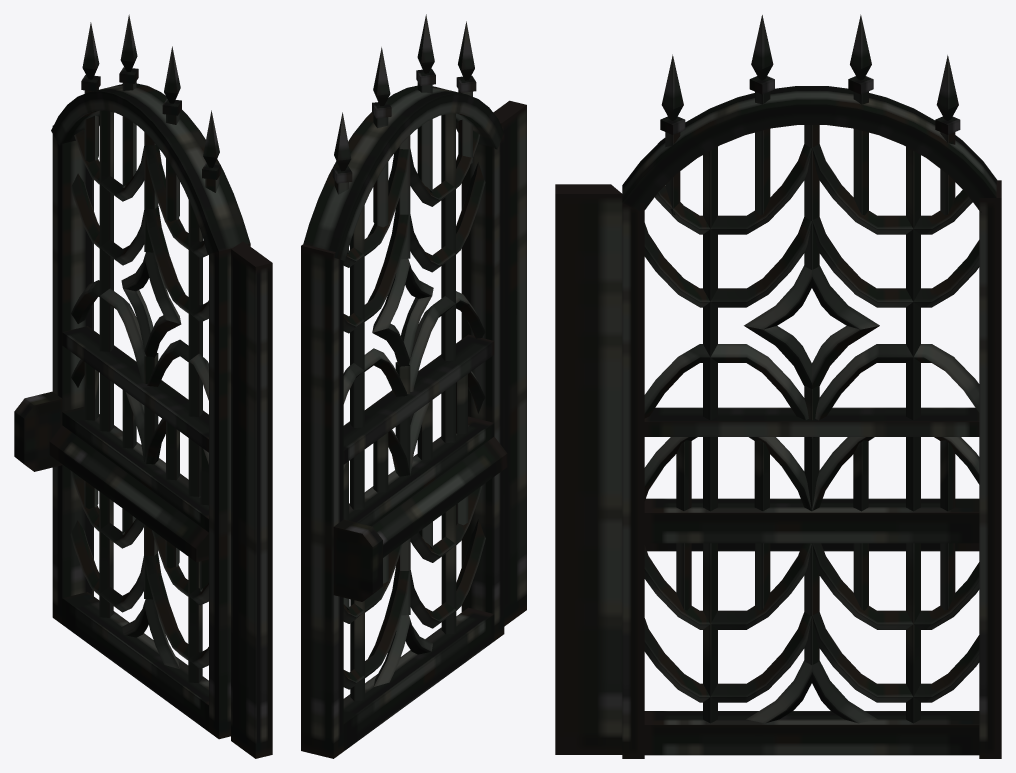
Rendered from EnvBdgMD_Forest_MothersGarden_A_Gate_R.FBX.
3 renders of one model, left to right at view 1: azimuth 30°, elevation 25°; view 2: azimuth 150°, elevation 25°; view 3: azimuth 270°, elevation 25°, orthographic. The views are drawn at different scales.
Visible parts, largest first — view 1: EnvBdgMD_Forest_MothersGarden_A_Gate_R; view 2: EnvBdgMD_Forest_MothersGarden_A_Gate_R; view 3: EnvBdgMD_Forest_MothersGarden_A_Gate_R.
Boxes of the visible parts, x1=… form: EnvBdgMD_Forest_MothersGarden_A_Gate_R: x1=14, y1=14, x2=272, y2=758; EnvBdgMD_Forest_MothersGarden_A_Gate_R: x1=301, y1=14, x2=526, y2=758; EnvBdgMD_Forest_MothersGarden_A_Gate_R: x1=555, y1=14, x2=1001, y2=758.
Size of the model in its own units: 41.25 by 364 by 200.
1 material, 1 textured.
